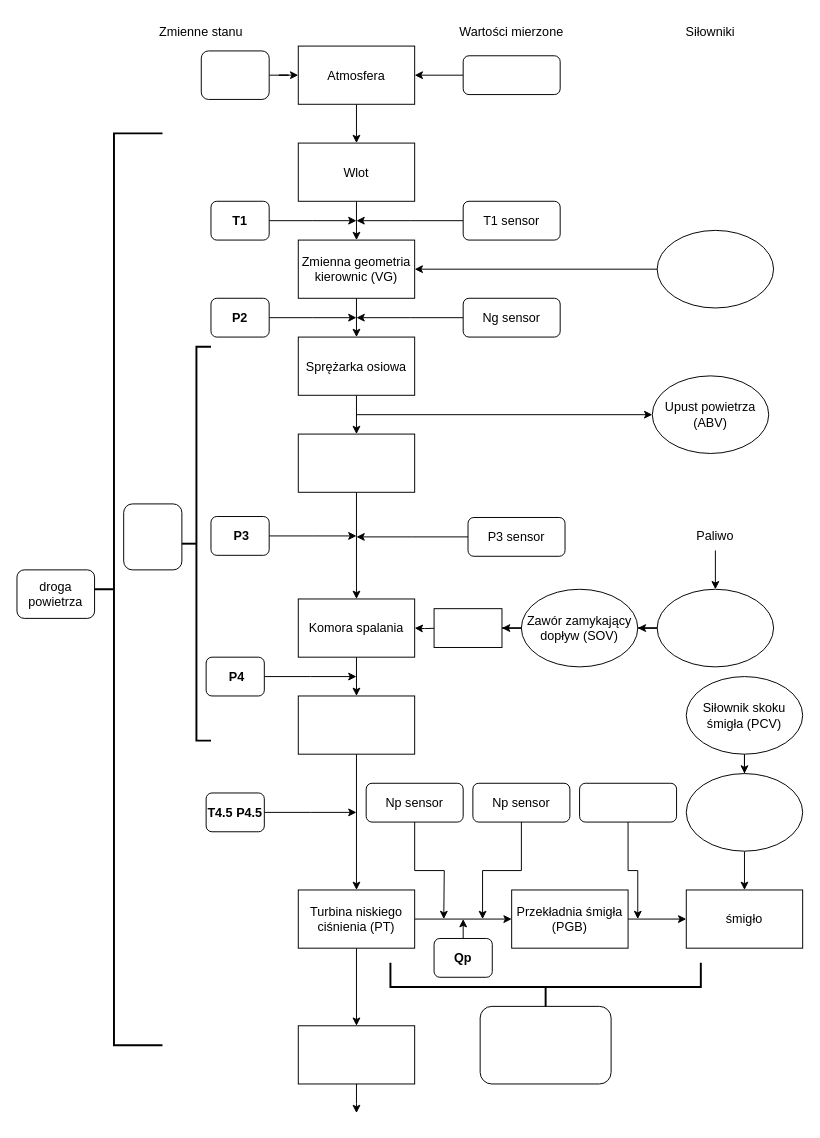
Image size: 820x1138. Some labels were removed from this diagram. Each missing label, with the centre of its shape:
Dysza wylotowa: point (356, 1054)
GGT wał Ng: point (152, 536)
No sensor: point (628, 802)
P0: point (234, 74)
P0 sensor: point (511, 75)
Pompa paliwowa (FMV): point (715, 627)
PT wał i wał śmigła Np: point (545, 1044)
siłownik zmiennej geometrii (VG): point (715, 268)
Sprężarka odśrodkowa: point (356, 462)
Turbina generatora gazu (GGT): point (356, 724)
Wtrysk paliwa: point (467, 627)
zawór chorągiewkujący (FBV): point (744, 812)
